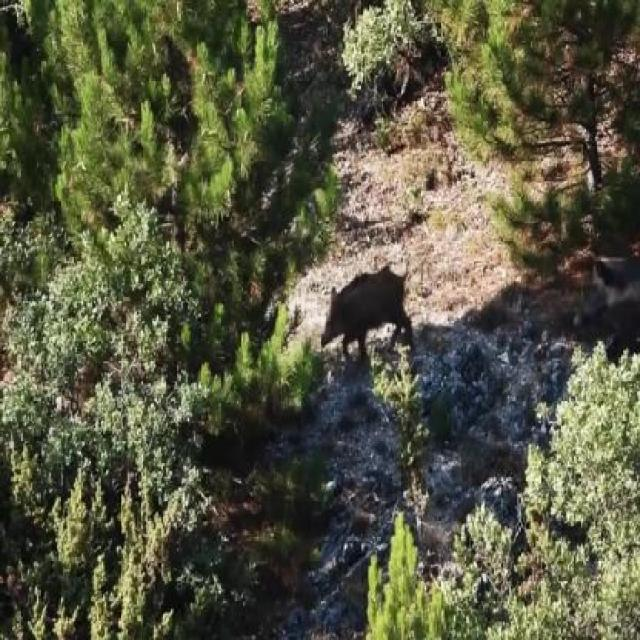pig: (322, 257, 420, 387)
